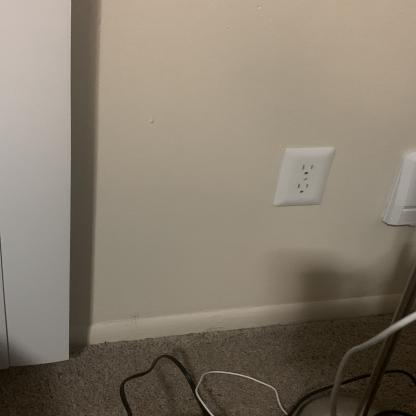OUTLET: (273, 146, 329, 206)
